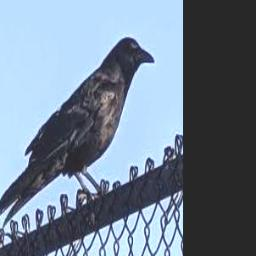Crow: (0, 36, 155, 229)
